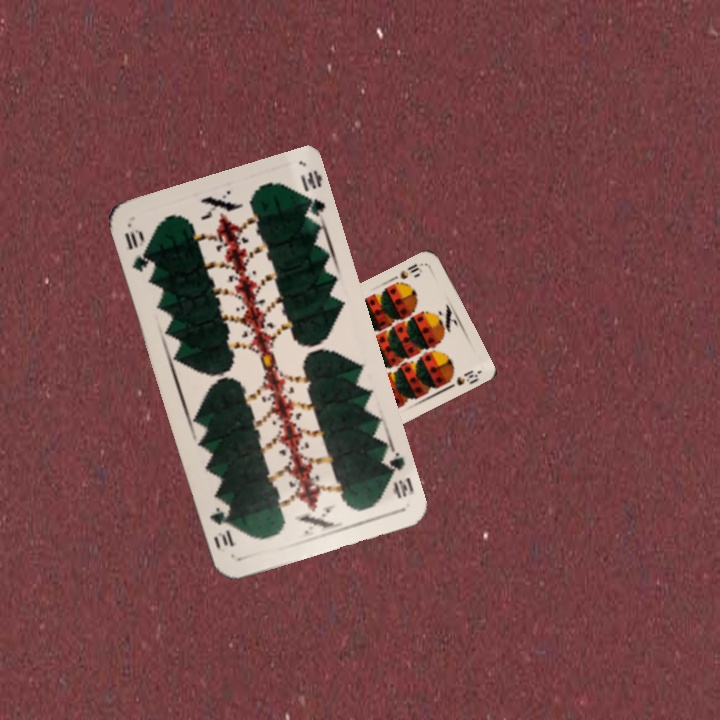G10: (378, 445, 416, 501), (120, 225, 153, 275)
S10: (396, 259, 422, 282)
